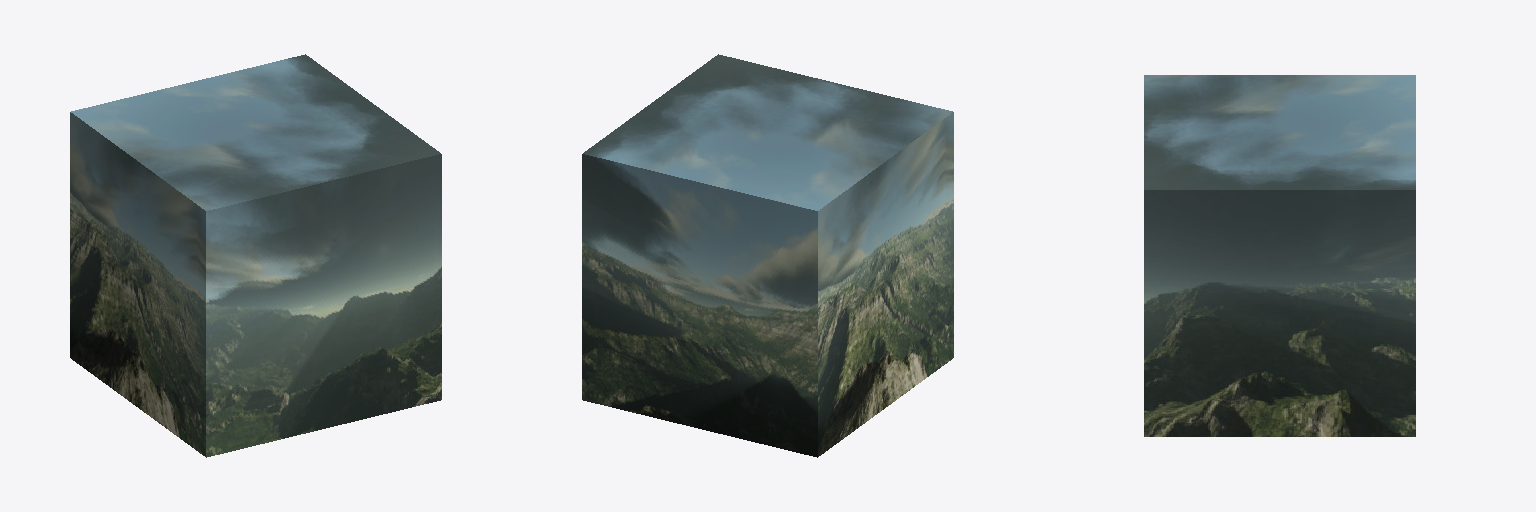
The picture shows the model from 3 angles: view 1: azimuth 30°, elevation 25°; view 2: azimuth 150°, elevation 25°; view 3: azimuth 270°, elevation 25°; orthographic projection.
Parts seen in each view (by area): view 1: Cube_Cube.001; view 2: Cube_Cube.001; view 3: Cube_Cube.001.
Boxes of the visible parts, x1=… form: Cube_Cube.001: x1=70, y1=54, x2=441, y2=457; Cube_Cube.001: x1=582, y1=54, x2=953, y2=457; Cube_Cube.001: x1=1144, y1=75, x2=1415, y2=436.
Size of the model in its own units: 10.69 by 10.69 by 10.69.
1 materials, 1 textured.